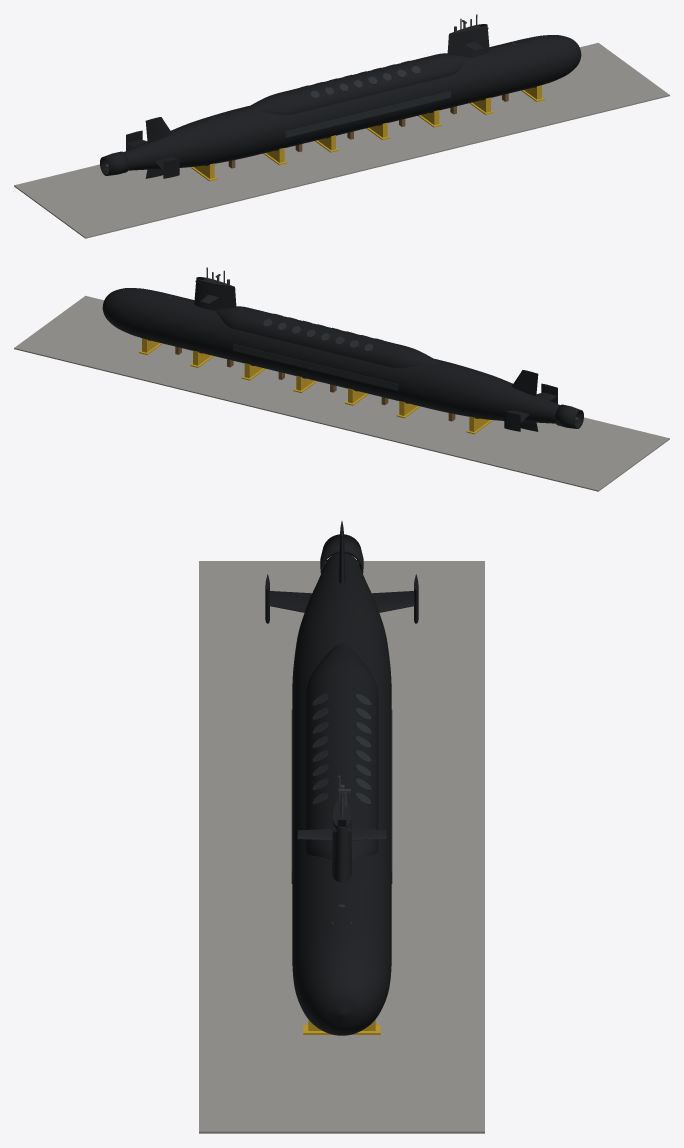
The model's file is sous-marin-classe-le-triomphant.glb.
3 renders of one model, top to bottom at view 1: azimuth 30°, elevation 25°; view 2: azimuth 150°, elevation 25°; view 3: azimuth 270°, elevation 25°, orthographic. The views are drawn at different scales.
Parts seen in each view (by area): view 1: Radier de cale sèche, Coque, Dos des missiles, Antenne sonar de flanc, Kiosque, Pompe-hélice carénage, Dérive de bout, Safran haut; view 2: Radier de cale sèche, Coque, Dos des missiles, Antenne sonar de flanc, Kiosque, Pompe-hélice carénage, Dérive de bout, Safran haut; view 3: Radier de cale sèche, Coque, Dos des missiles, Kiosque, Barre arrière.
Part boxes in pixels (x1=…): Radier de cale sèche: x1=14, y1=42, x2=669, y2=238; Coque: x1=124, y1=35, x2=581, y2=170; Dos des missiles: x1=244, y1=53, x2=468, y2=114; Antenne sonar de flanc: x1=285, y1=91, x2=450, y2=137; Kiosque: x1=447, y1=24, x2=489, y2=57; Pompe-hélice carénage: x1=100, y1=151, x2=128, y2=175; Dérive de bout: x1=126, y1=130, x2=179, y2=178; Safran haut: x1=145, y1=117, x2=172, y2=143; Radier de cale sèche: x1=14, y1=295, x2=669, y2=491; Coque: x1=102, y1=288, x2=559, y2=423; Dos des missiles: x1=215, y1=306, x2=439, y2=367; Antenne sonar de flanc: x1=233, y1=344, x2=398, y2=390; Kiosque: x1=194, y1=277, x2=236, y2=310; Pompe-hélice carénage: x1=555, y1=404, x2=583, y2=428; Dérive de bout: x1=504, y1=383, x2=557, y2=431; Safran haut: x1=511, y1=370, x2=538, y2=396; Radier de cale sèche: x1=199, y1=561, x2=484, y2=1133; Coque: x1=292, y1=553, x2=391, y2=1035; Dos des missiles: x1=305, y1=643, x2=378, y2=859; Kiosque: x1=331, y1=799, x2=352, y2=882; Barre arrière: x1=269, y1=591, x2=414, y2=612.
Bounding box in the file's own units: 170 × 26.15 × 36.
